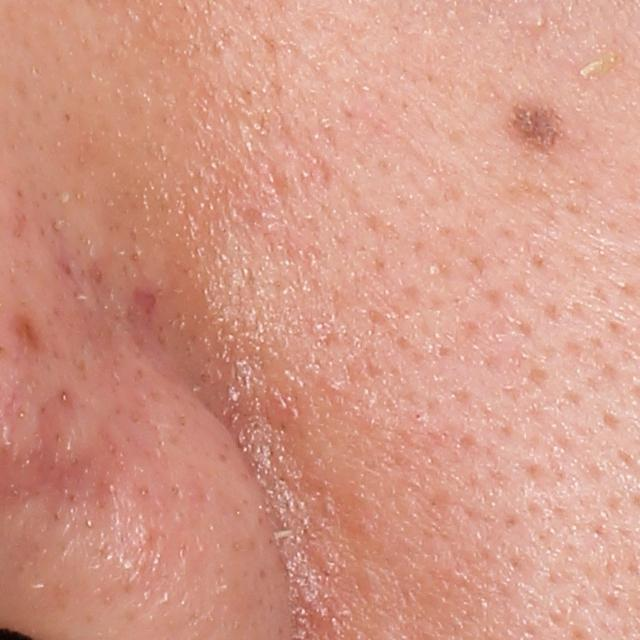comedo: (530, 9, 552, 31)
